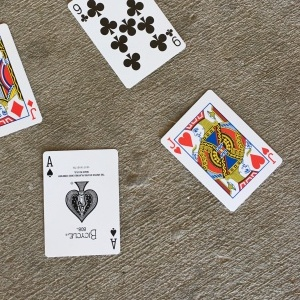card: (159, 89, 284, 211), (41, 146, 123, 257)
